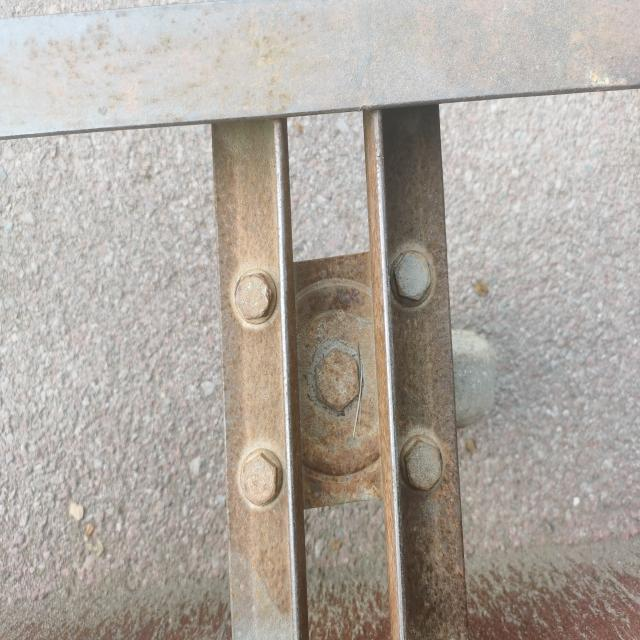bolt head: (314, 348, 360, 412), (403, 438, 442, 492), (240, 452, 278, 507), (234, 272, 274, 322), (394, 251, 432, 302)
